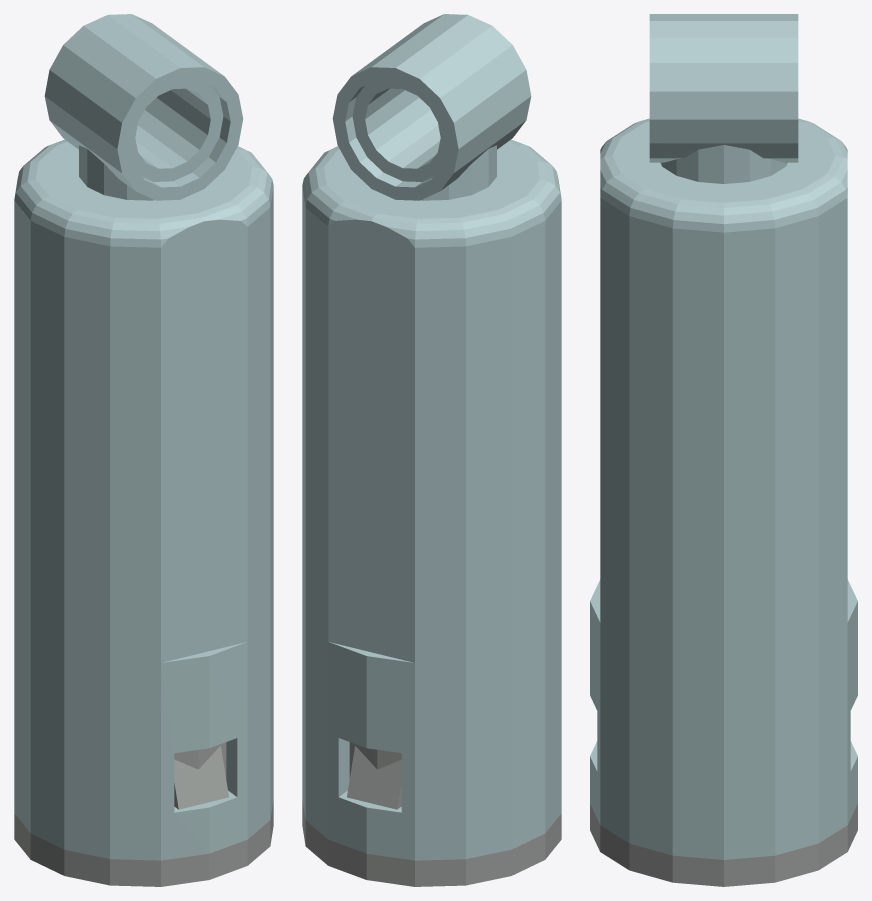
3 views of the same model, side by side, from view 1: azimuth 30°, elevation 25°; view 2: azimuth 150°, elevation 25°; view 3: azimuth 270°, elevation 25° (orthographic). The views are drawn at different scales.
Parts seen in each view (by area): view 1: world; view 2: world; view 3: world.
Boxes of the visible parts, x1,y1,x2,y2 form: world: [14, 14, 273, 886]; world: [302, 14, 561, 886]; world: [590, 14, 857, 886].
Size of the model in its own units: 0.0144 by 0.048 by 0.0144.
